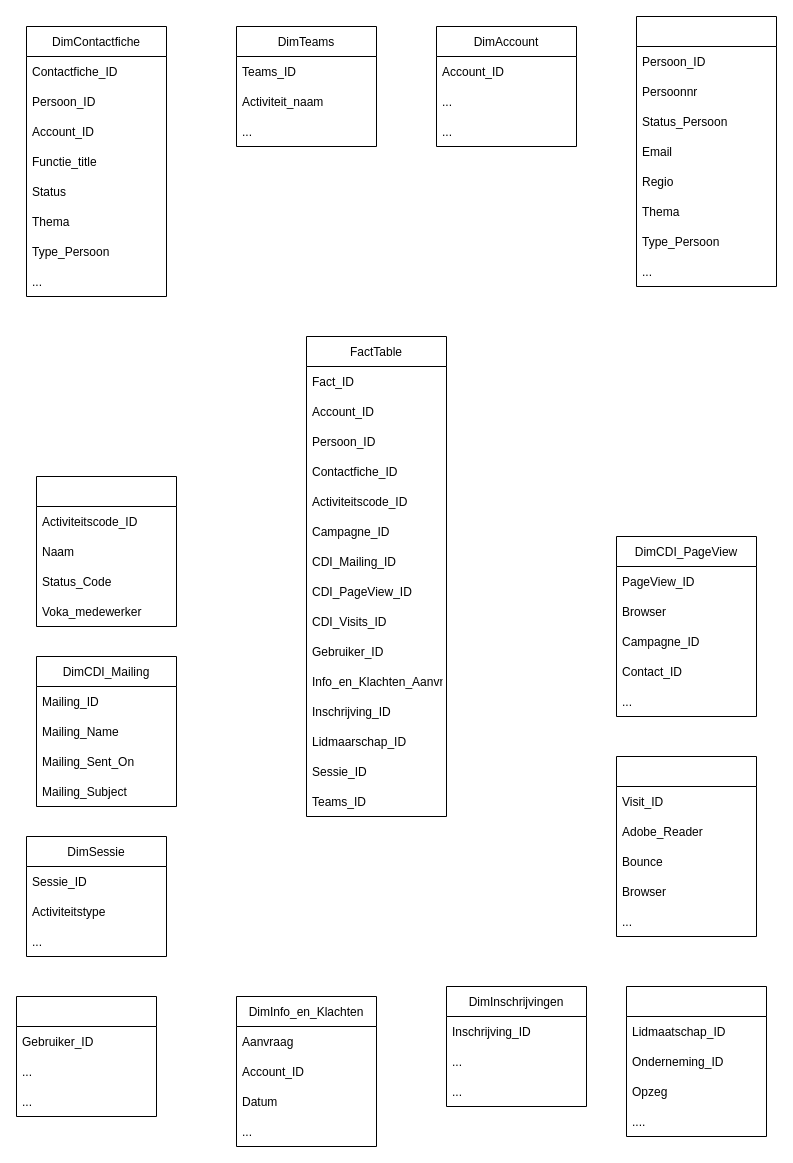
Image size: 793x1163. Some labels were removed from this diagram. The shapes that lost their labels are listed below. From the top down, each one's box as (x1, y1, x2, y2) in pixels, then its label:
(636, 16, 776, 286): DimPersoon
(36, 476, 176, 626): DimActiviteitscode
(616, 756, 756, 936): DimCDI_Visits
(16, 996, 156, 1116): DimGebruiker
(626, 986, 766, 1136): DimLidmaatschap
